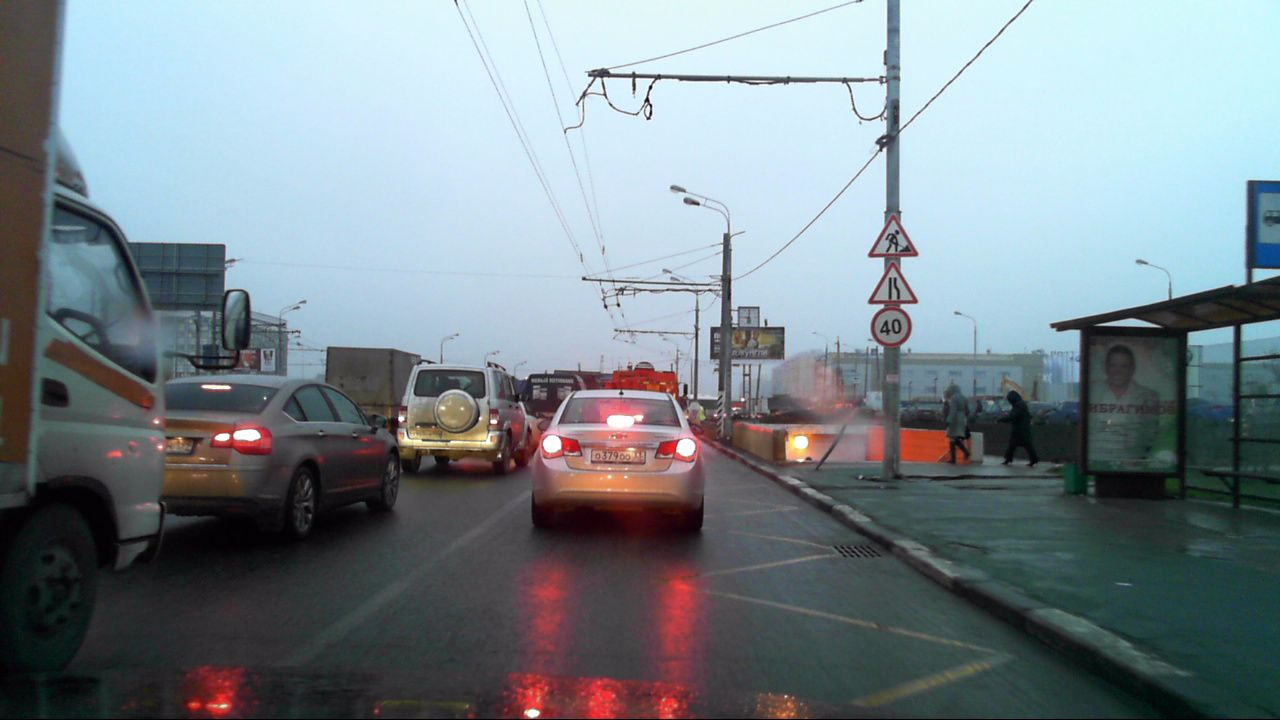speed_warning_40: (870, 306, 912, 346)
